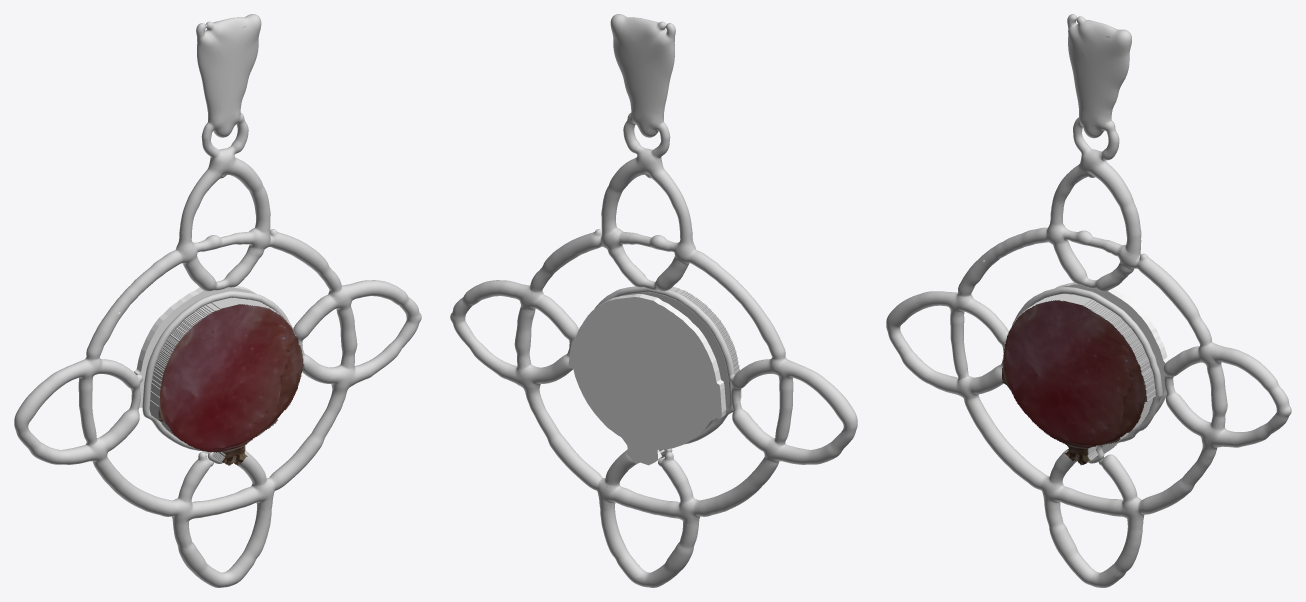
The picture shows the model from 3 angles, left to right: view 1: azimuth 30°, elevation 25°; view 2: azimuth 150°, elevation 25°; view 3: azimuth 330°, elevation 25°; orthographic projection.
Parts seen in each view (by area): view 1: joya; view 2: joya; view 3: joya.
Part boxes in pixels (x1,y1,x2,y2): joya: [14, 14, 421, 587]; joya: [450, 14, 857, 587]; joya: [886, 14, 1291, 587].
Bounding box in the file's own units: 0.0326 × 0.0437 × 0.00325.
Materials: 3 (1 with a texture image).
